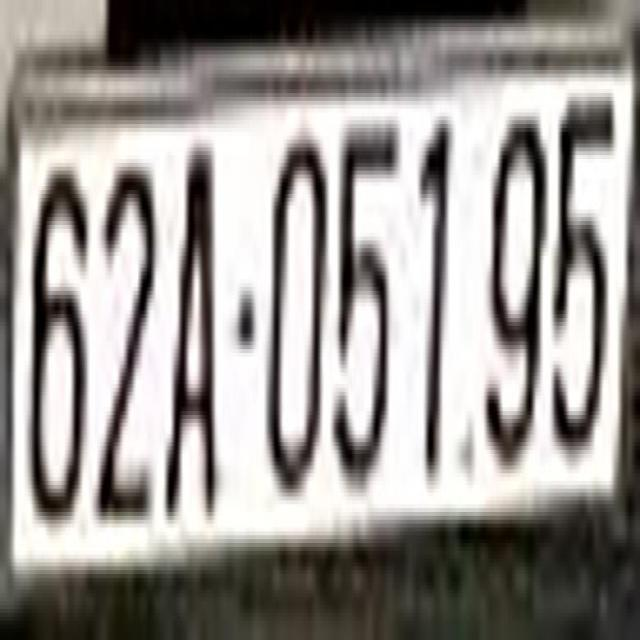0: (260, 109, 328, 512)
1: (415, 93, 453, 493)
2: (96, 162, 160, 536)
5: (332, 112, 402, 500), (552, 93, 613, 454)
6: (30, 156, 89, 532)
9: (481, 97, 548, 489)
A: (164, 132, 224, 532)
